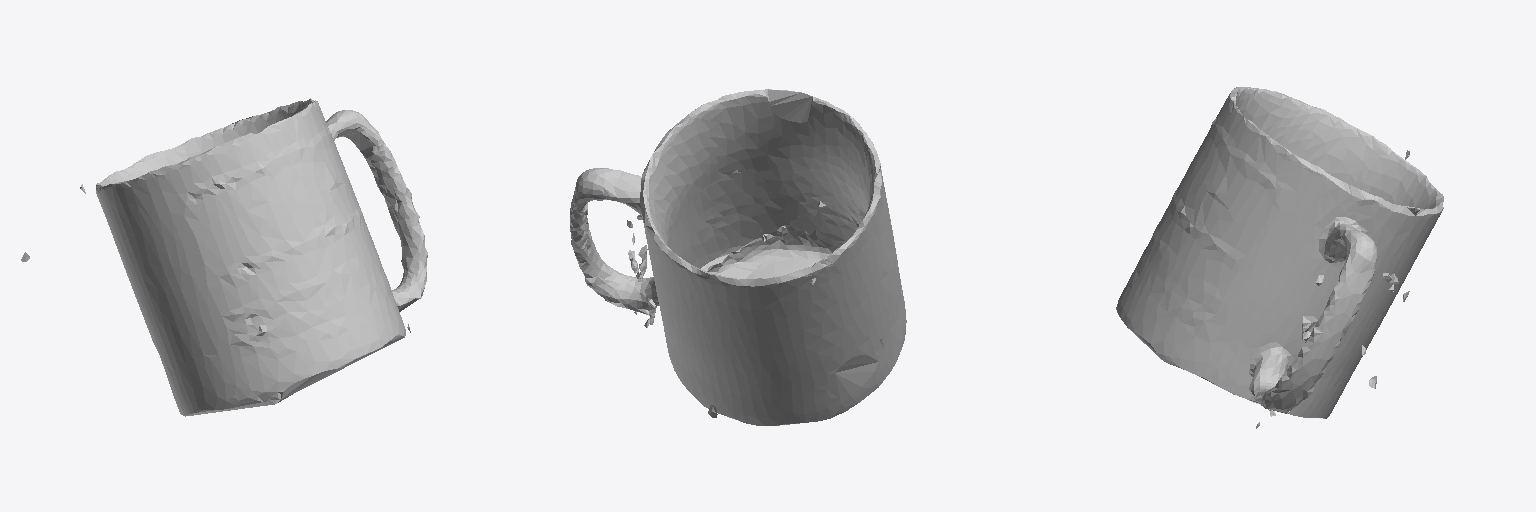
Rendered from fel-pro.obj.
3 views of the same model, side by side, from view 1: azimuth 30°, elevation 25°; view 2: azimuth 150°, elevation 25°; view 3: azimuth 270°, elevation 25° (orthographic).
Size of the model in its own units: 152 by 124 by 123.